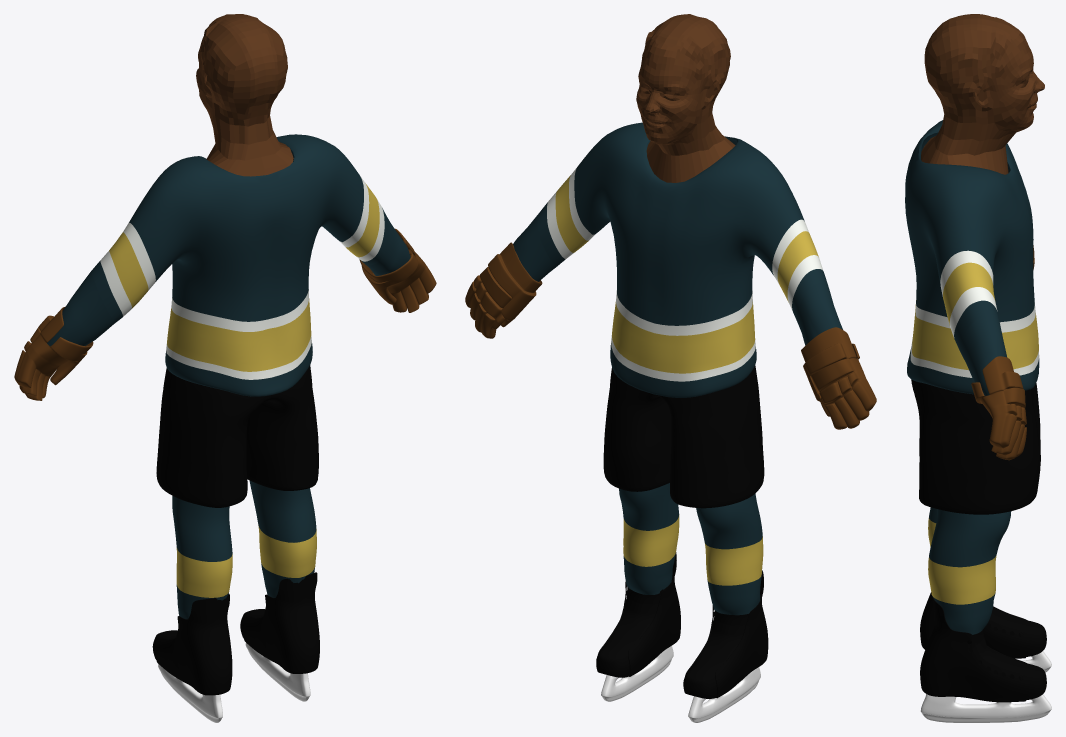
File: noriigplayer.fbx
The picture shows the model from 3 angles, left to right: view 1: azimuth 30°, elevation 25°; view 2: azimuth 150°, elevation 25°; view 3: azimuth 270°, elevation 25°; orthographic projection.
Visible parts, largest first — view 1: Cube.011; view 2: Cube.011; view 3: Cube.011.
Part boxes in pixels (bbox=[...]): Cube.011: bbox=[14, 14, 436, 722]; Cube.011: bbox=[465, 14, 876, 722]; Cube.011: bbox=[905, 14, 1051, 722].
Size of the model in its own units: 1.96 by 3.07 by 0.5967.
